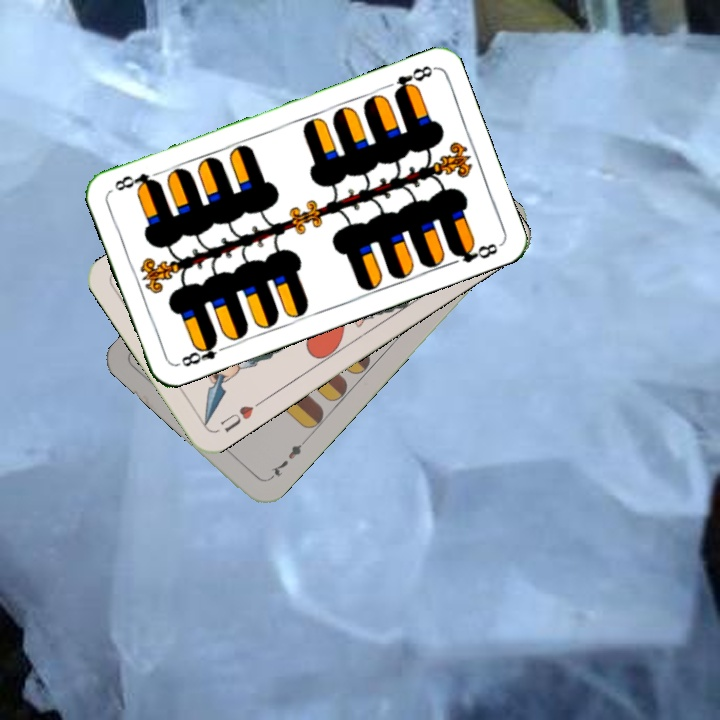E7: (264, 435, 310, 483)
E8: (177, 334, 231, 370), (389, 61, 436, 99)
HU: (215, 401, 257, 436)
